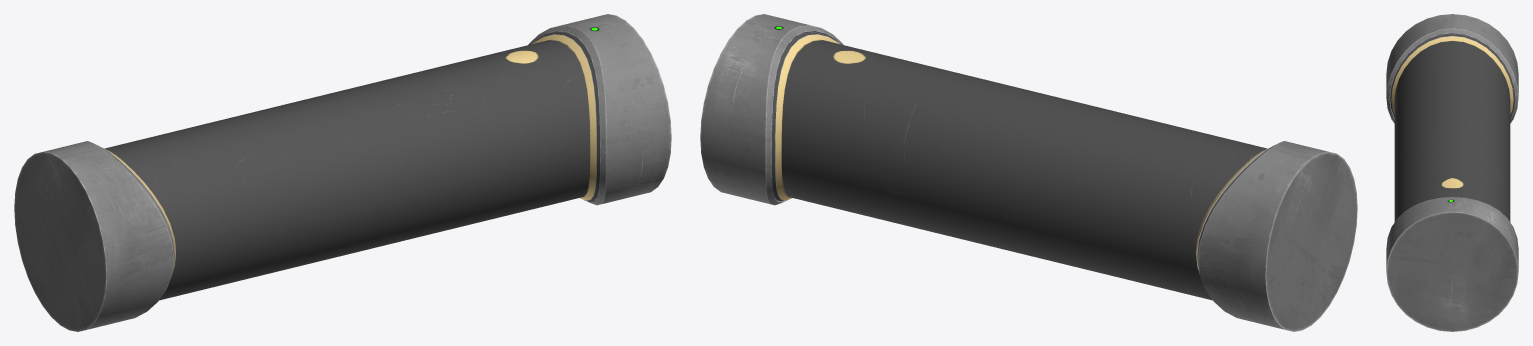
Rendered from grip_5_c_b.glb.
The picture shows the model from 3 angles, left to right: view 1: azimuth 30°, elevation 25°; view 2: azimuth 150°, elevation 25°; view 3: azimuth 270°, elevation 25°; orthographic projection. The views are drawn at different scales.
Visible parts, largest first — view 1: grip_5_c_b_lod0; view 2: grip_5_c_b_lod0; view 3: grip_5_c_b_lod0.
Boxes of the visible parts, box(x1,y1,x2,y2) form: grip_5_c_b_lod0: box(14, 14, 671, 331); grip_5_c_b_lod0: box(700, 14, 1357, 331); grip_5_c_b_lod0: box(1386, 14, 1518, 331).
Size of what is drawn, in the model's own units: 0.1054 by 0.0298 by 0.0298.
Materials: 1 (1 with a texture image).
